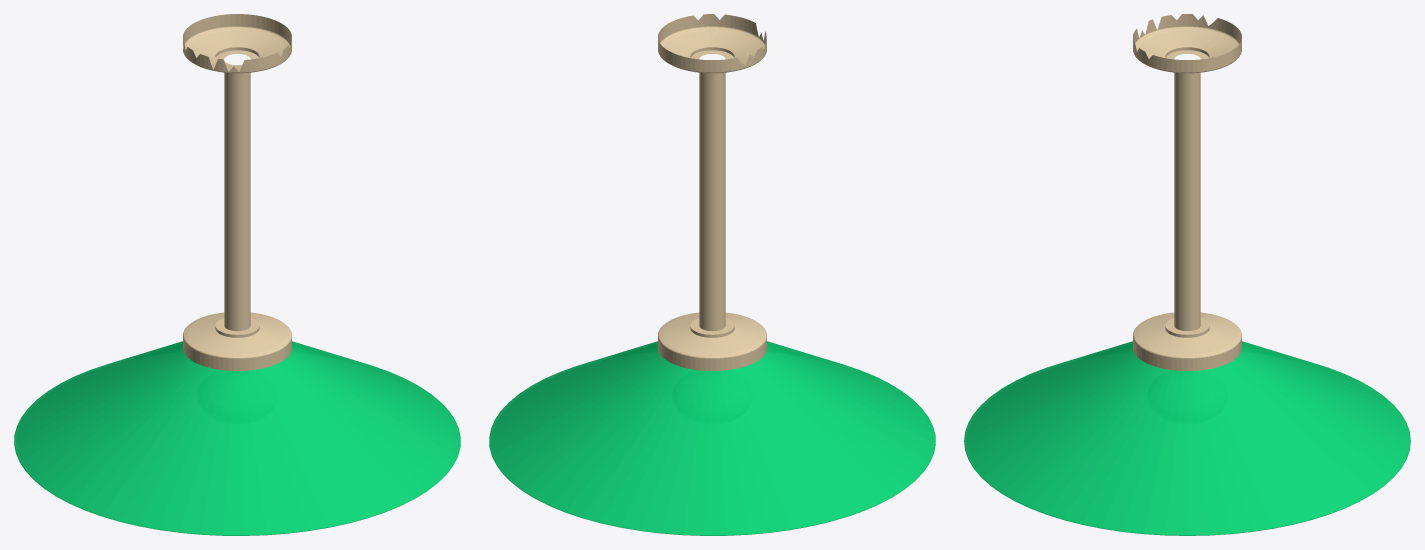
Rendered from sh-kl-hanging-restaurant-light.glb.
3 views of the same model, side by side, from view 1: azimuth 30°, elevation 25°; view 2: azimuth 150°, elevation 25°; view 3: azimuth 270°, elevation 25° (orthographic).
Parts seen in each view (by area): view 1: Circle_Circle_Shade, Circle_Circle_Brass; view 2: Circle_Circle_Shade, Circle_Circle_Brass; view 3: Circle_Circle_Shade, Circle_Circle_Brass.
Boxes of the visible parts, bbox=[...] form: Circle_Circle_Shade: bbox=[14, 341, 460, 535]; Circle_Circle_Brass: bbox=[183, 14, 291, 370]; Circle_Circle_Shade: bbox=[489, 341, 935, 535]; Circle_Circle_Brass: bbox=[658, 14, 766, 370]; Circle_Circle_Shade: bbox=[964, 341, 1410, 535]; Circle_Circle_Brass: bbox=[1133, 14, 1241, 370].
Size of the model in its own units: 1 by 1 by 1.
